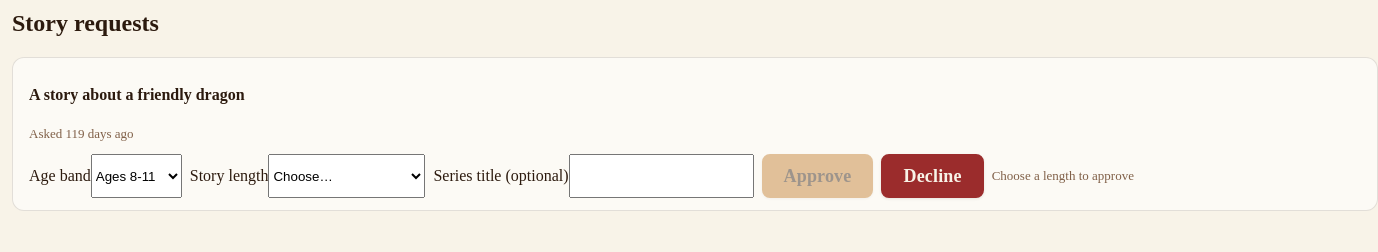
Scenario: StoryRequestQueue teen narrative style › shows the story style field once a teen age band is selected
Check: the text "A story about a friendly dragon" is shown, box left=29, top=86, right=245, bottom=103
Select "Ages 13-16" in the dropdown labelled "Age band" at (136, 176), box left=91, top=154, right=182, bottom=198
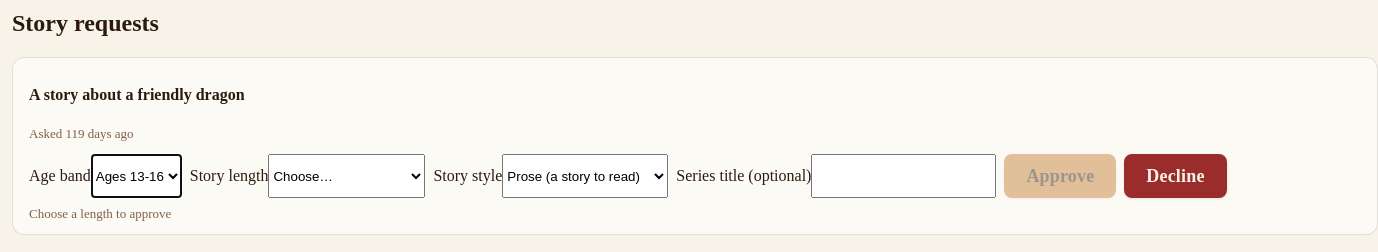
Check: the dropdown labelled "Story style" is shown, box left=502, top=154, right=668, bottom=198
